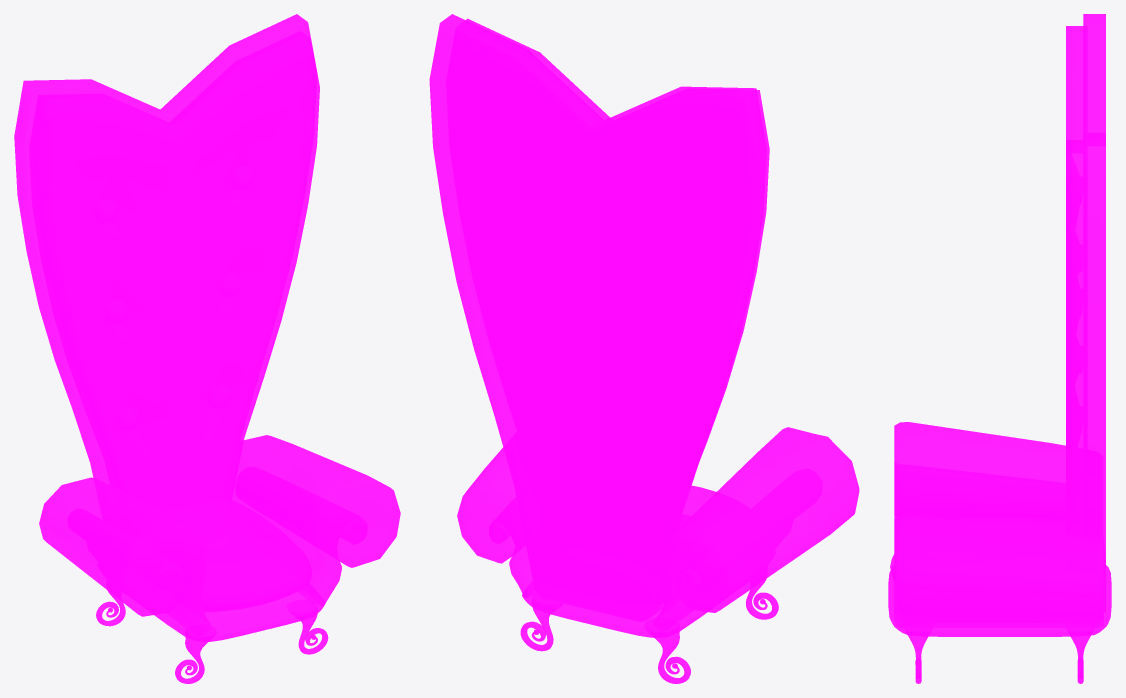
File: purple_heart_chair.fbx
3 renders of one model, left to right at view 1: azimuth 30°, elevation 25°; view 2: azimuth 150°, elevation 25°; view 3: azimuth 270°, elevation 25°, orthographic. The views are drawn at different scales.
Parts seen in each view (by area): view 1: chair; view 2: chair; view 3: chair.
Boxes of the visible parts, x1,y1,x2,y2 form: chair: (14, 14, 400, 683); chair: (429, 14, 859, 683); chair: (888, 14, 1111, 683).
Bounding box in the file's own units: 15.87 × 28.79 × 10.23.
